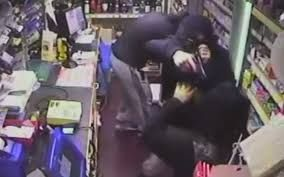gun: (173, 48, 211, 80)
